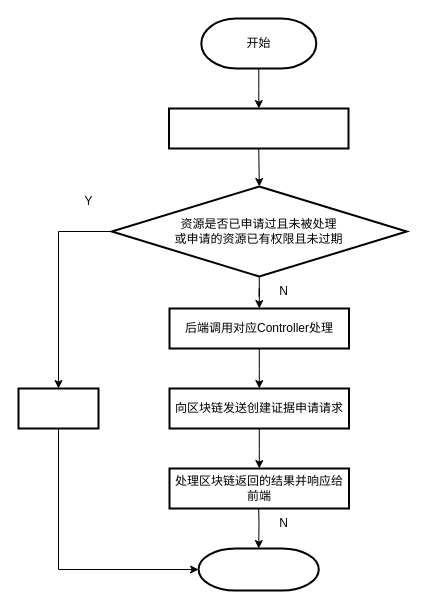
Some shapes in this 425 by 608 pixel diagram are drawn without their labels. The centre of each missing label's shape, as x and y in pixels:
"申请者前端提交证据申请表单" belongs at point 258,128.
"结束" belongs at point 258,569.
"返回error" belongs at point 58,408.
